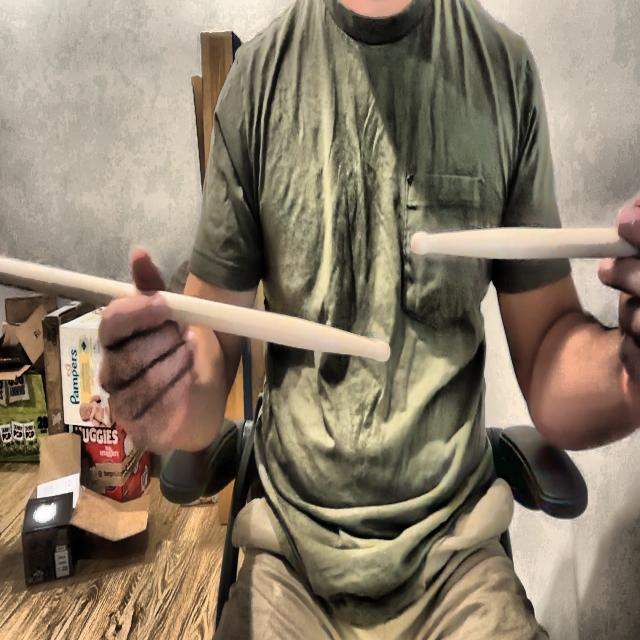Drumstick-Heads: (375, 329, 394, 376), (408, 226, 433, 261)
